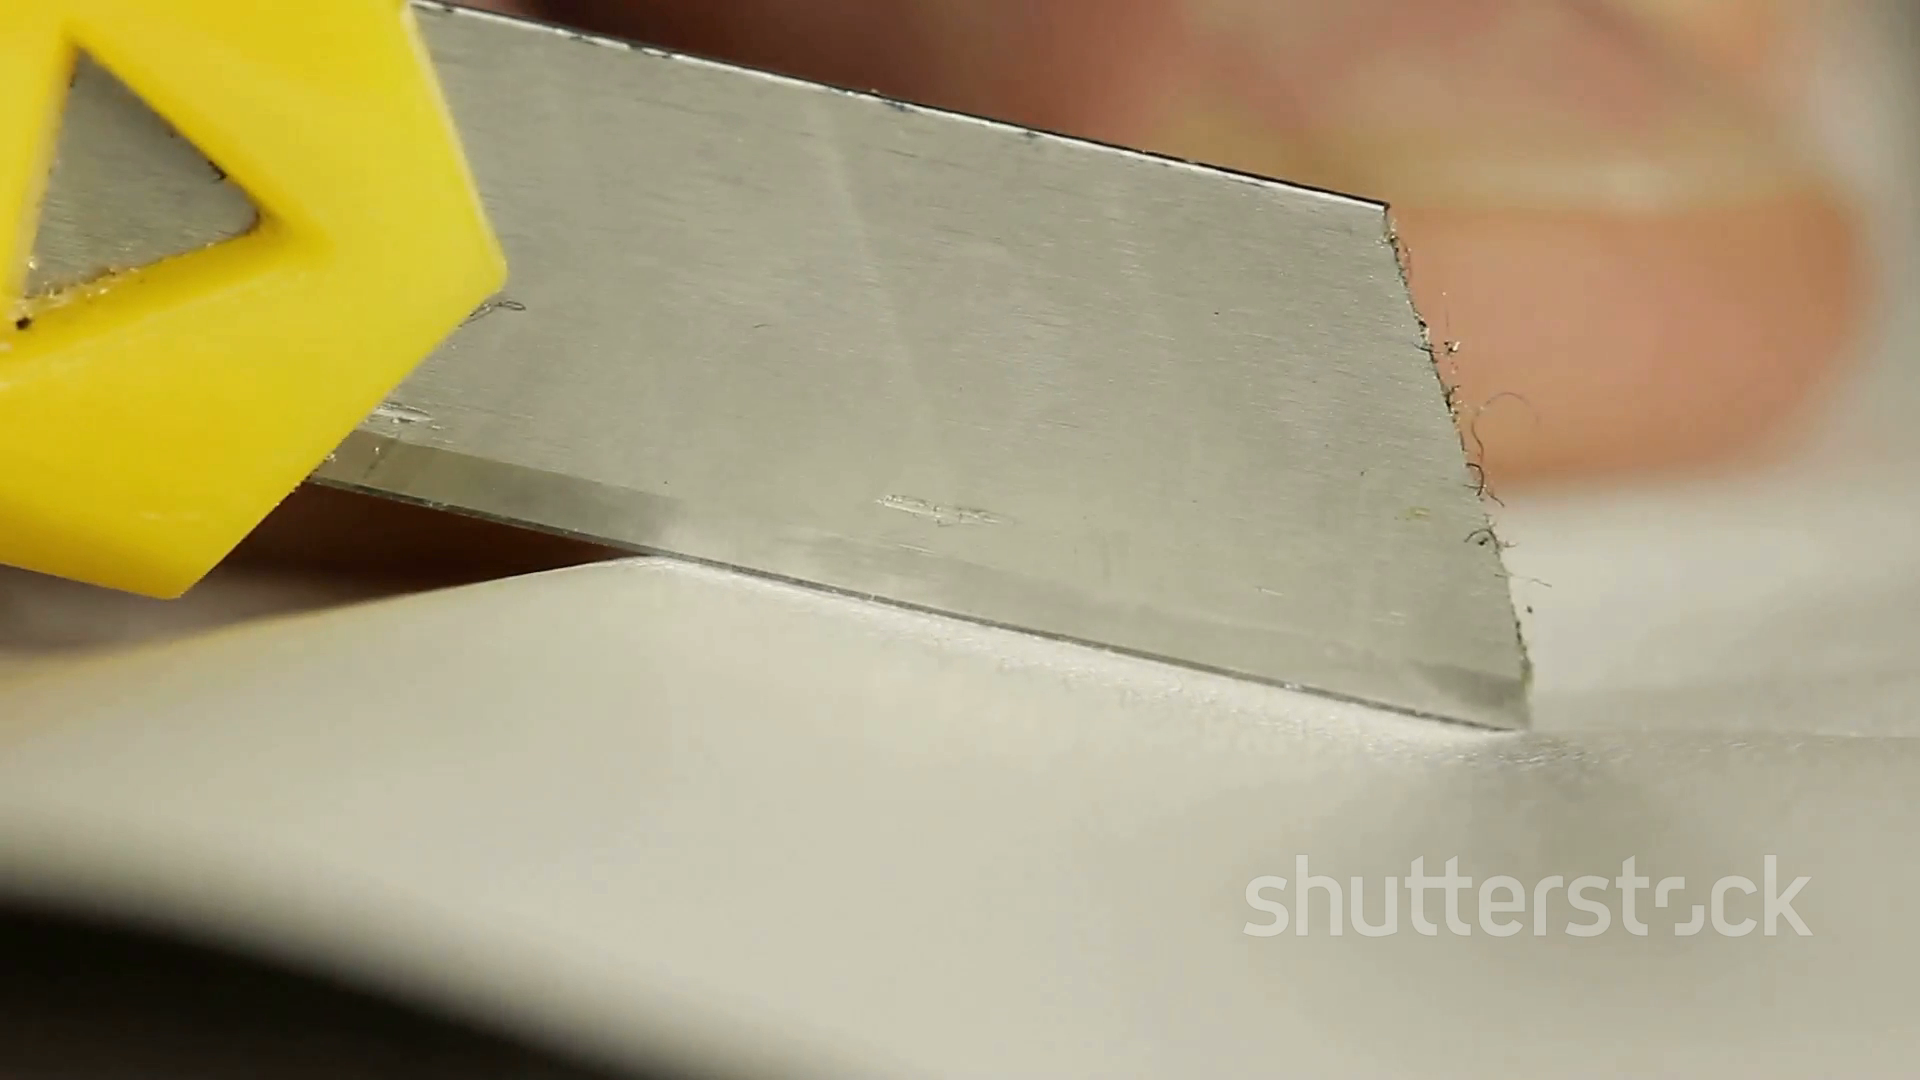cortante: (307, 0, 1530, 725)
